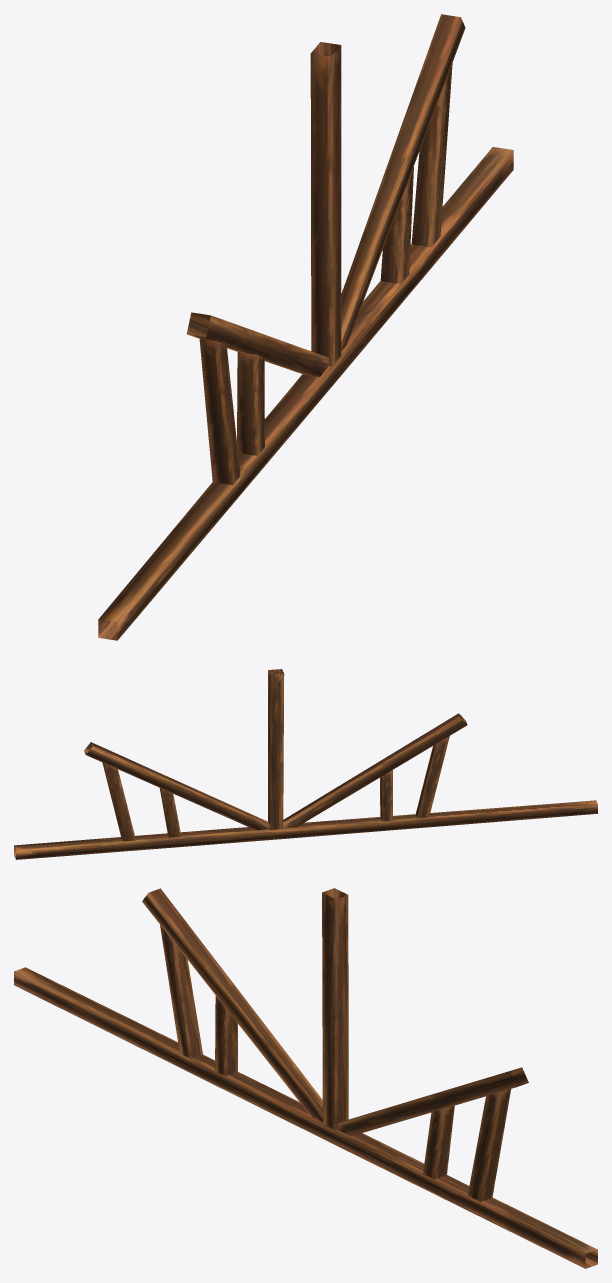
The model's file is SWORDLIGHT20_JAILCEILBRACKET15.fbx.
3 views of the same model, one above another, from view 1: azimuth 30°, elevation 25°; view 2: azimuth 150°, elevation 25°; view 3: azimuth 270°, elevation 25° (orthographic). The views are drawn at different scales.
Visible parts, largest first — view 1: SWORDLIGHT20_JAILCEILBRACKET15; view 2: SWORDLIGHT20_JAILCEILBRACKET15; view 3: SWORDLIGHT20_JAILCEILBRACKET15.
Part boxes in pixels (<box>): SWORDLIGHT20_JAILCEILBRACKET15: <box>98,14,513,640</box>; SWORDLIGHT20_JAILCEILBRACKET15: <box>14,669,597,859</box>; SWORDLIGHT20_JAILCEILBRACKET15: <box>14,888,597,1268</box>.
Bounding box in the file's own units: 124401 × 49666 × 106842.
Materials: 1 (1 with a texture image).
